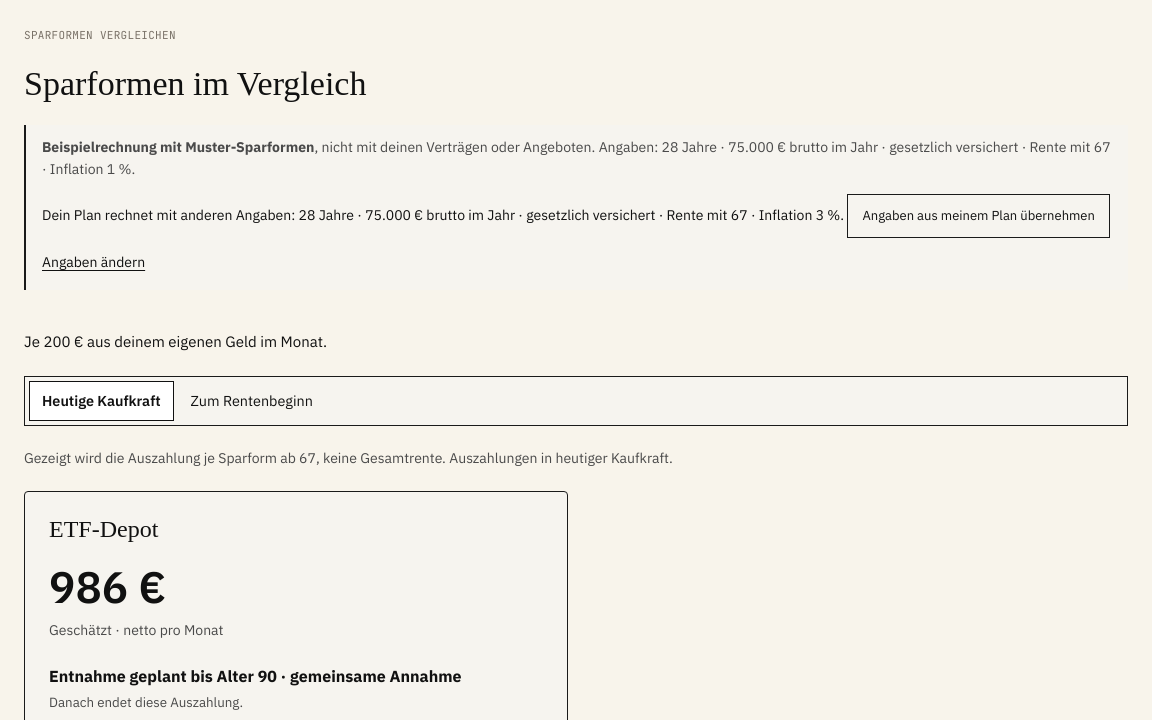
Test: profile strip on the result (audit F11) › makes a differing inflation visible when the person is otherwise identical
The image size is (1152, 720).
expect the element with test id "vergleich-profile-strip" shows "Dein Plan rechnet mit anderen Angaben": met, box [42,206,299,224]
expect the element that starts with "Beispielrechnung mit Muster-Sparformen" shows "Inflation 1 %": met, box [42,138,1111,178]
Click the button "Angaben aus meinem Plan übernehmen" at (979,216), box [848,194,1110,238]
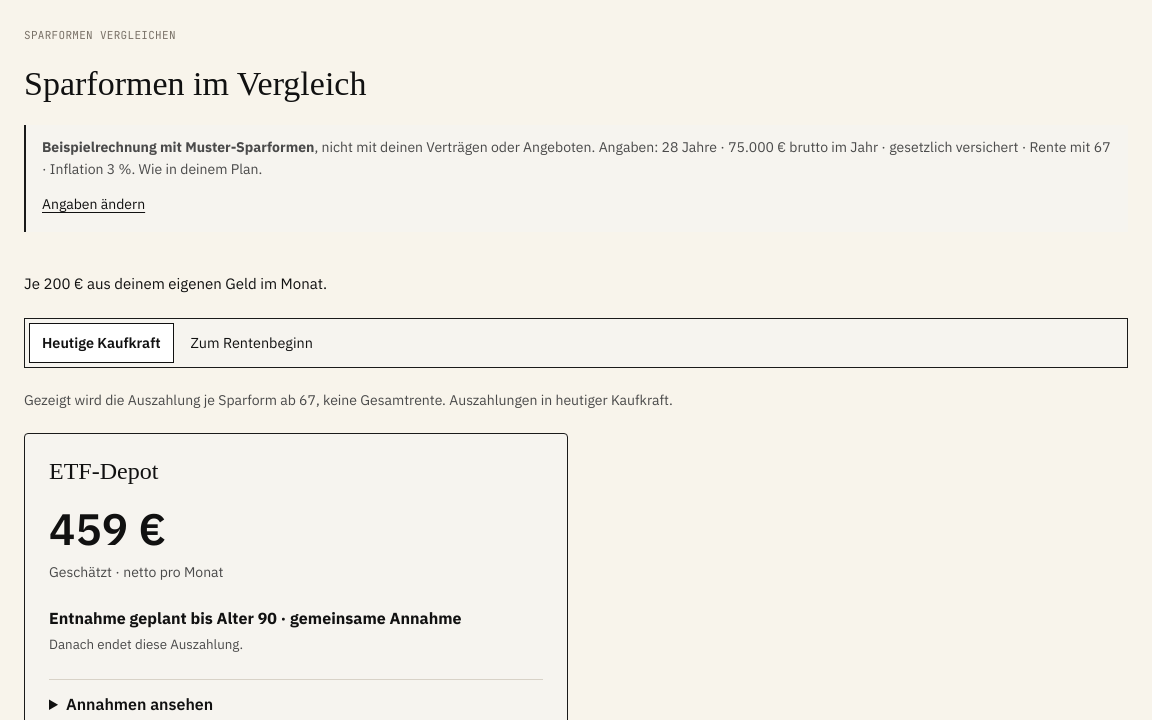
expect the element with test id "vergleich-profile-strip" shows "Inflation 3 %": met, box [42,138,1111,178]
expect the element with test id "vergleich-profile-strip" shows "Wie in deinem Plan.": met, box [135,160,262,178]
expect the element with test id "vergleich-profile-strip" no longer shows "anderen Angaben": met, box [24,125,1128,232]
